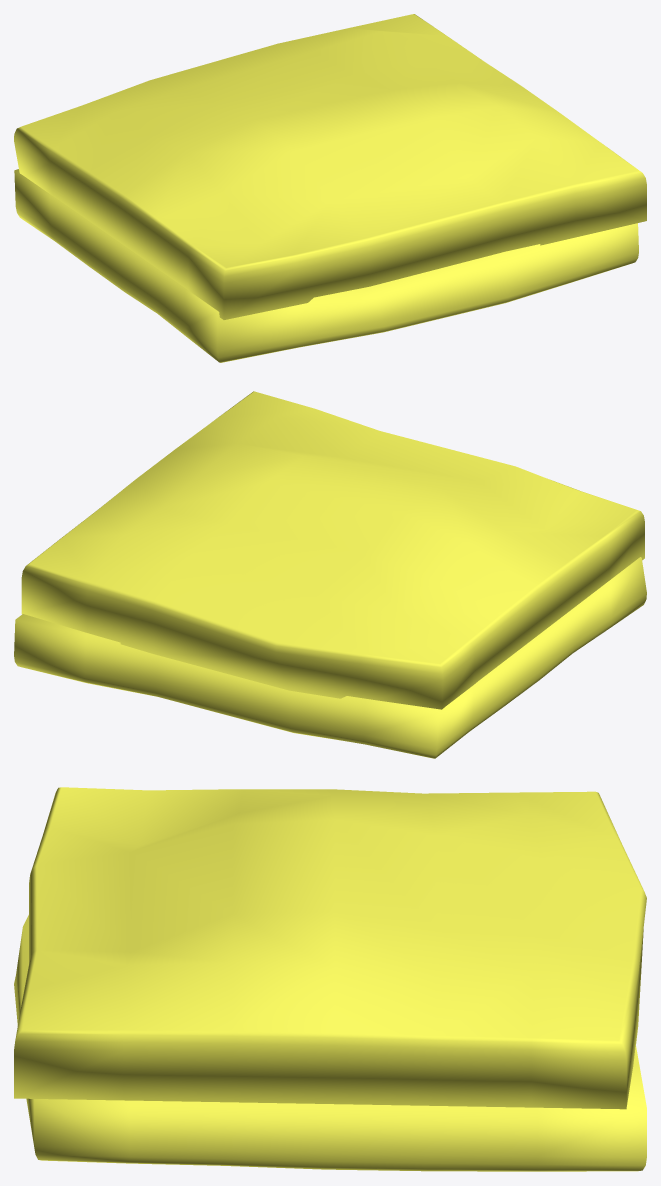
File: Sabanas_Termicas_003.fbx
3 views of the same model, one above another, from view 1: azimuth 30°, elevation 25°; view 2: azimuth 150°, elevation 25°; view 3: azimuth 270°, elevation 25° (orthographic). The views are drawn at different scales.
Visible parts, largest first — view 1: Sabanas_1; view 2: Sabanas_1; view 3: Sabanas_1.
Part boxes in pixels (x1,y1,x2,y2): Sabanas_1: (14, 14, 646, 362); Sabanas_1: (14, 391, 646, 758); Sabanas_1: (14, 787, 646, 1171).
Size of the model in its own units: 3.36 by 1.37 by 3.37.
